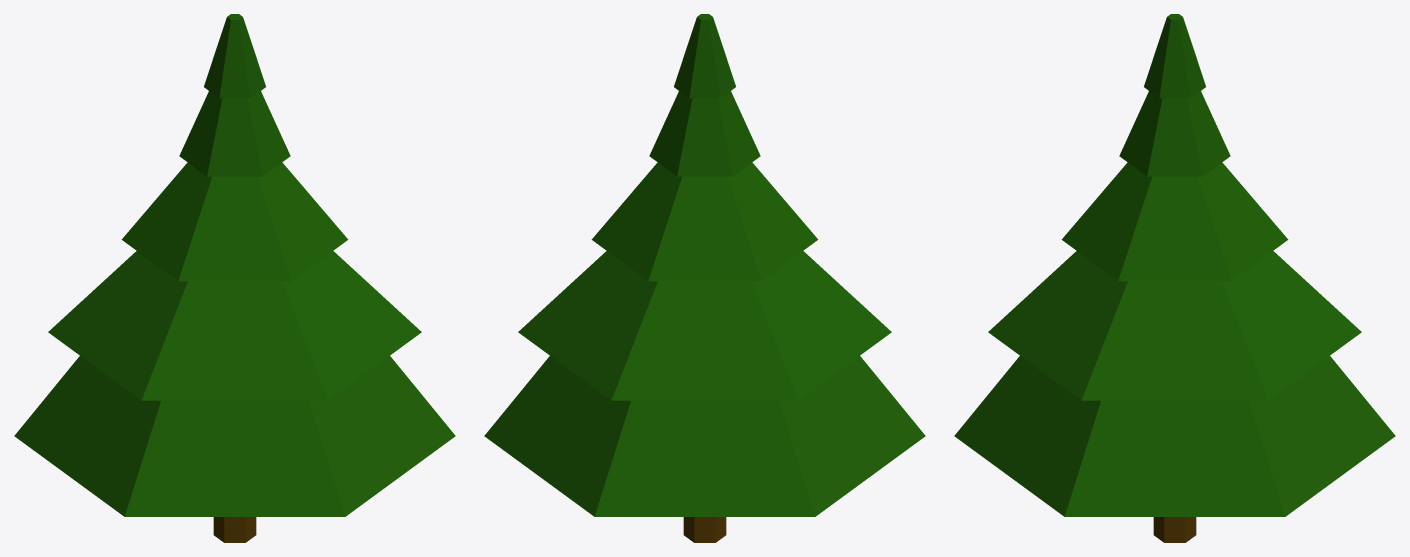
Rendered from PineTree.glb.
3 renders of one model, left to right at view 1: azimuth 30°, elevation 25°; view 2: azimuth 150°, elevation 25°; view 3: azimuth 270°, elevation 25°, orthographic.
Parts seen in each view (by area): view 1: PineTree; view 2: PineTree; view 3: PineTree.
Part boxes in pixels (x1=…): PineTree: x1=14, y1=14, x2=455, y2=542; PineTree: x1=484, y1=14, x2=925, y2=542; PineTree: x1=954, y1=14, x2=1395, y2=542.
Size of what is drawn, in the model's own units: 2.23 by 3.34 by 2.58.
Materials: 1 (1 with a texture image).
